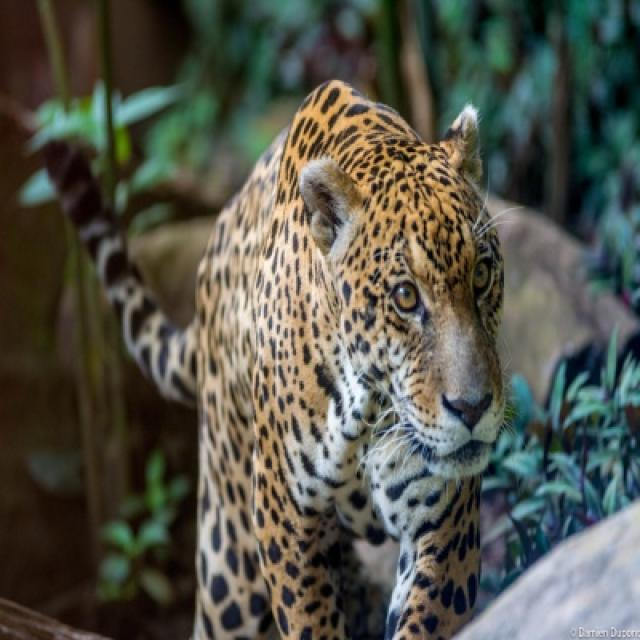Jaguar: (34, 80, 506, 638)
